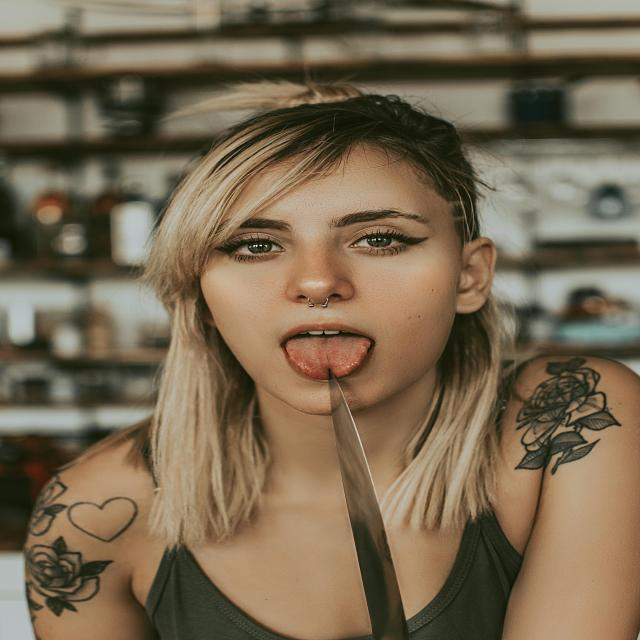Knife: (331, 370, 409, 640)
